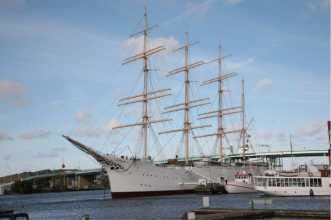fanchuan: (73, 10, 261, 194)
otherboat: (256, 170, 331, 202), (222, 169, 261, 195)
